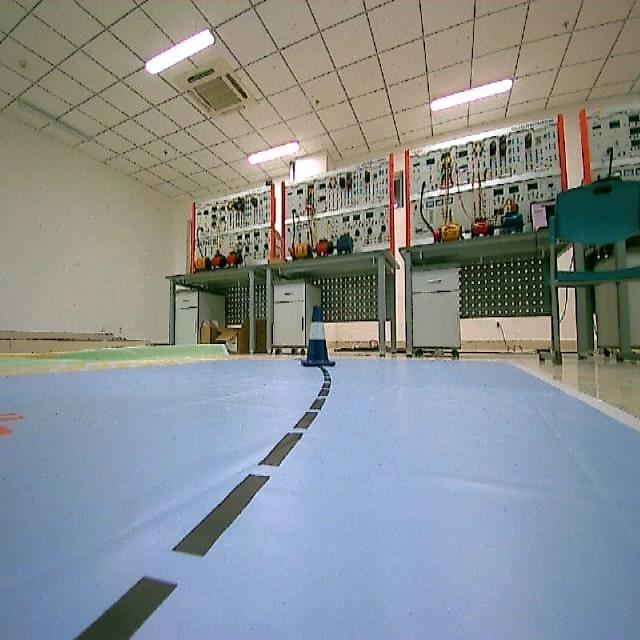obstacle: (302, 305, 344, 370)
